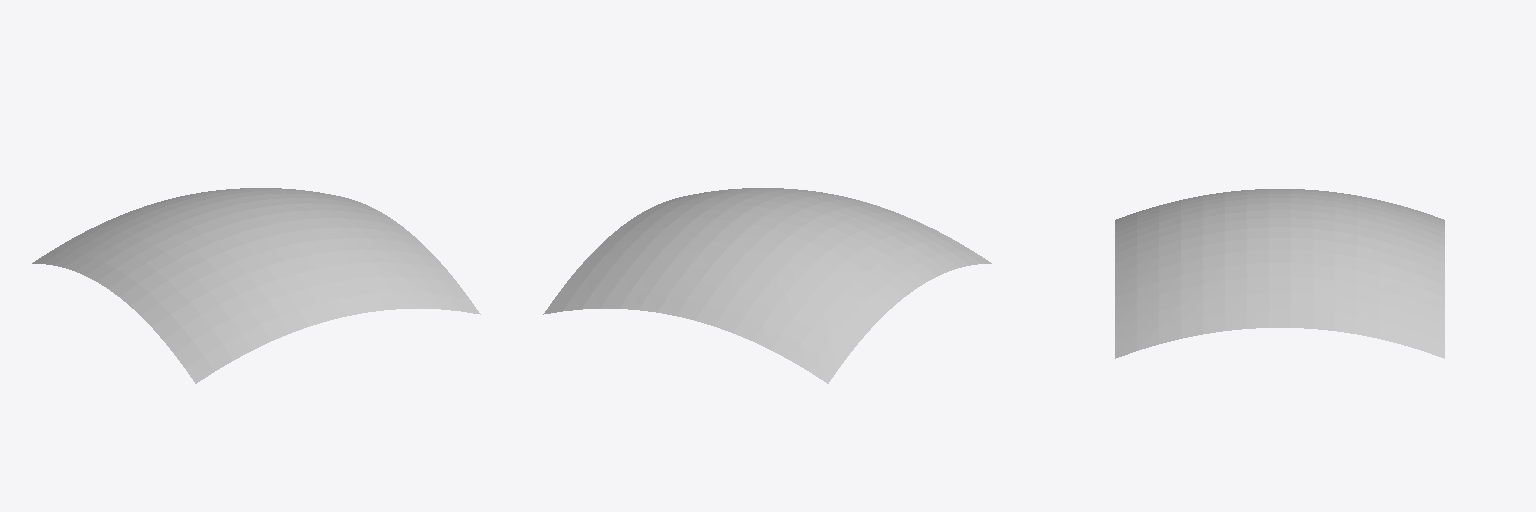
3 renders of one model, left to right at view 1: azimuth 30°, elevation 25°; view 2: azimuth 150°, elevation 25°; view 3: azimuth 270°, elevation 25°, orthographic.
Parts seen in each view (by area): view 1: SurfPatch; view 2: SurfPatch; view 3: SurfPatch.
Boxes of the visible parts, box(x1,y1,x2,y2) form: SurfPatch: box(32, 188, 480, 383); SurfPatch: box(543, 188, 991, 383); SurfPatch: box(1115, 189, 1444, 358).
Bounding box in the file's own units: 3 × 0.6687 × 3.